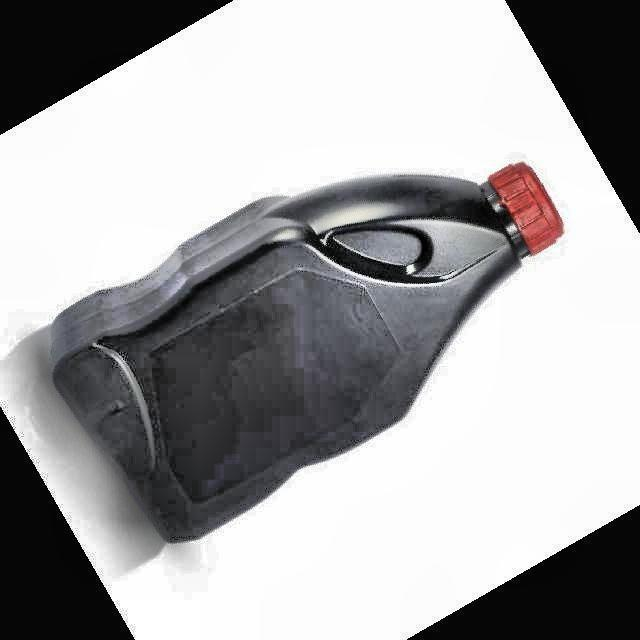plastic: (51, 162, 562, 542)
